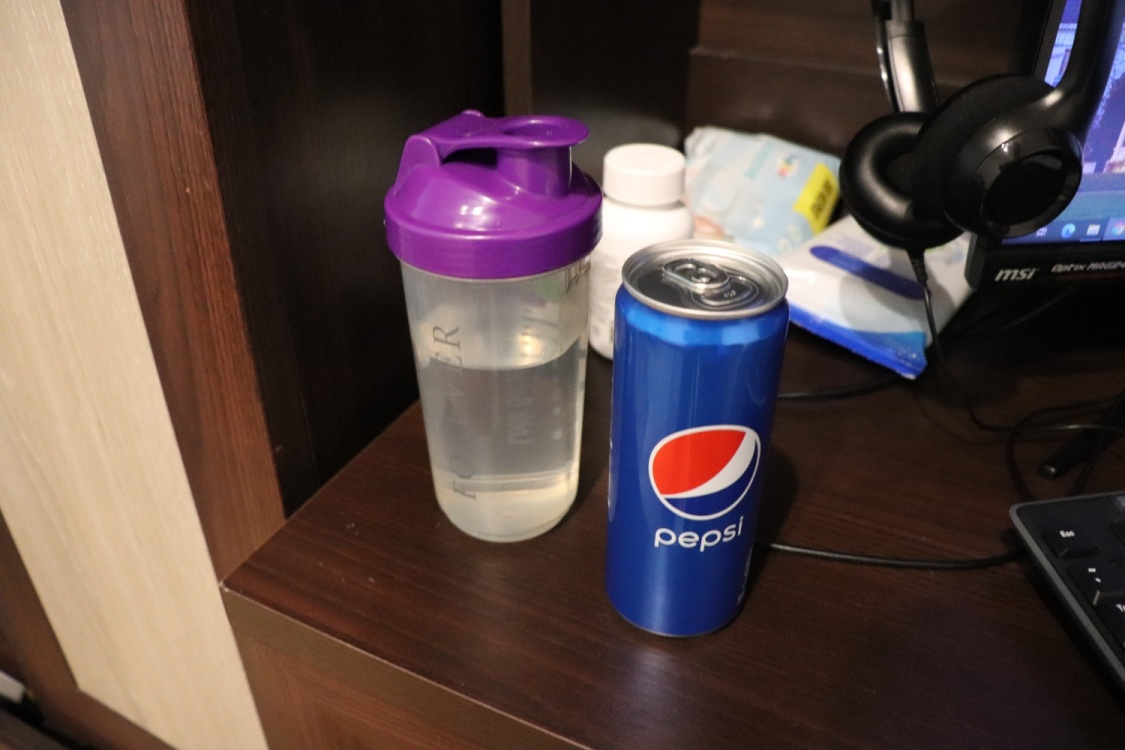pepsi: (611, 237, 790, 668)
